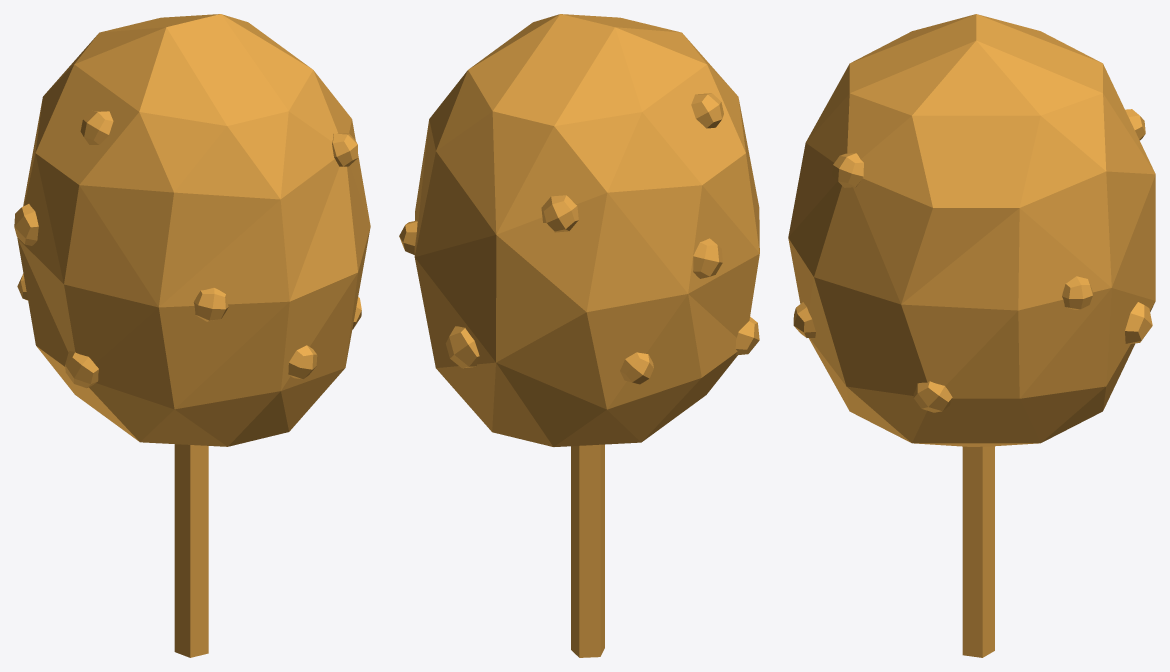
File: tree-round-apple.fbx
3 views of the same model, side by side, from view 1: azimuth 30°, elevation 25°; view 2: azimuth 150°, elevation 25°; view 3: azimuth 270°, elevation 25° (orthographic).
Parts seen in each view (by area): view 1: tree-round-apple; view 2: tree-round-apple; view 3: tree-round-apple.
Part boxes in pixels (box(x1,y1,x2,y2)): tree-round-apple: box(14, 14, 370, 657); tree-round-apple: box(399, 14, 759, 657); tree-round-apple: box(788, 14, 1155, 657).
Bounding box in the file's own units: 2.58 × 5.06 × 2.7.
